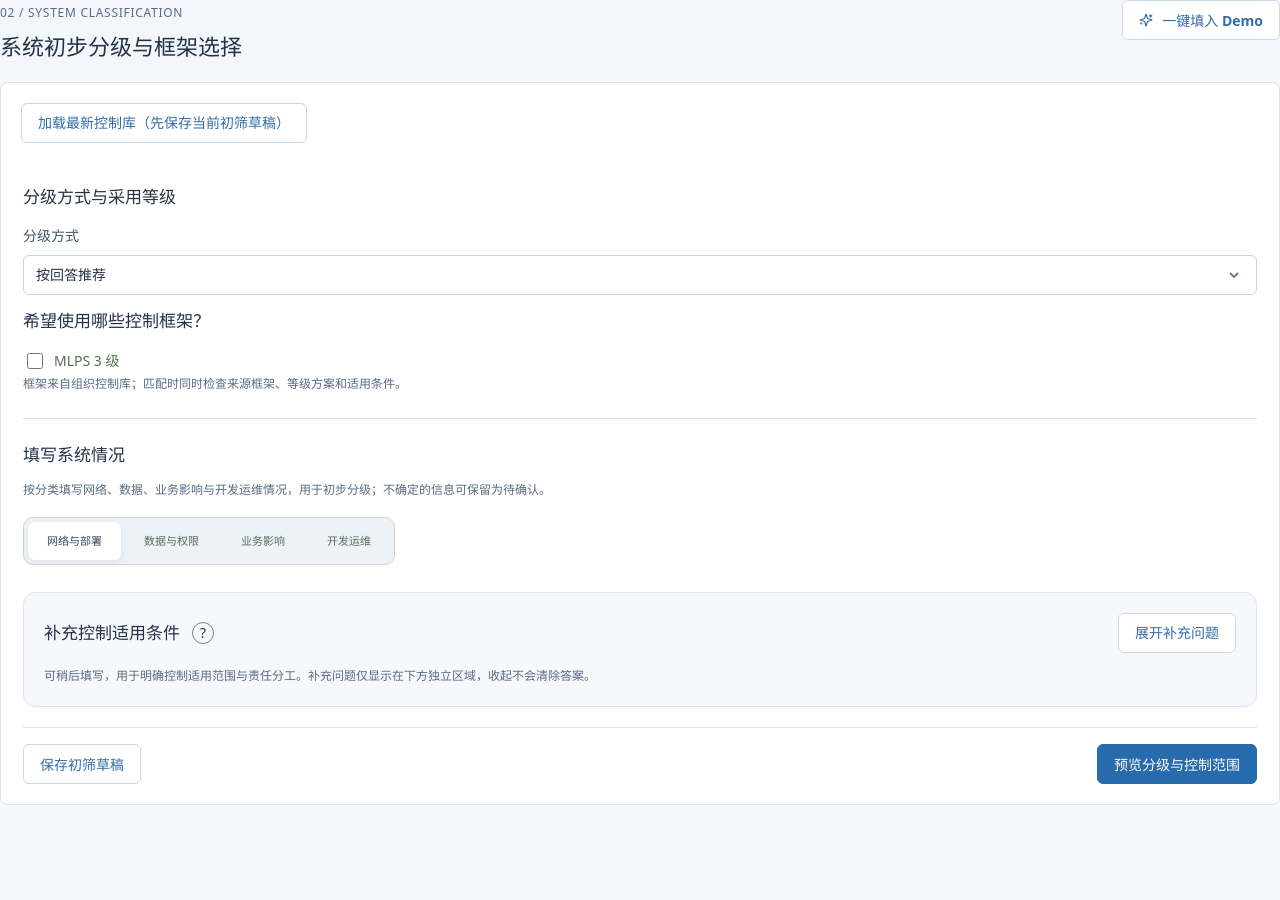
shows the relevant rule on hover or focus and dismisses it without changing answers
Click the button "数据与权限". click: (172, 541)
box: [125,522,218,560]
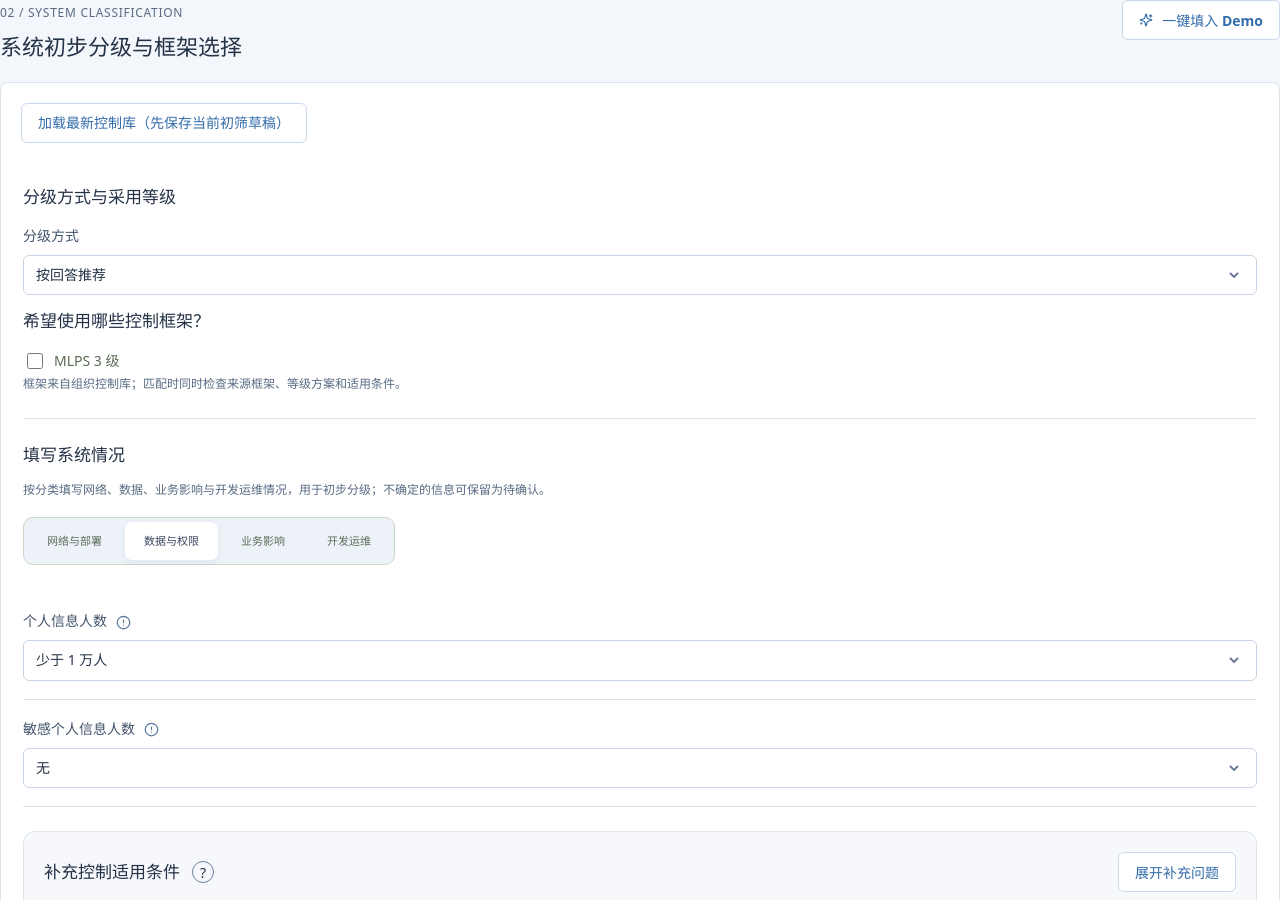
Hover over the picture named "个人信息人数 · 初筛规则说明" at (123, 622), box [116,614,131,630]
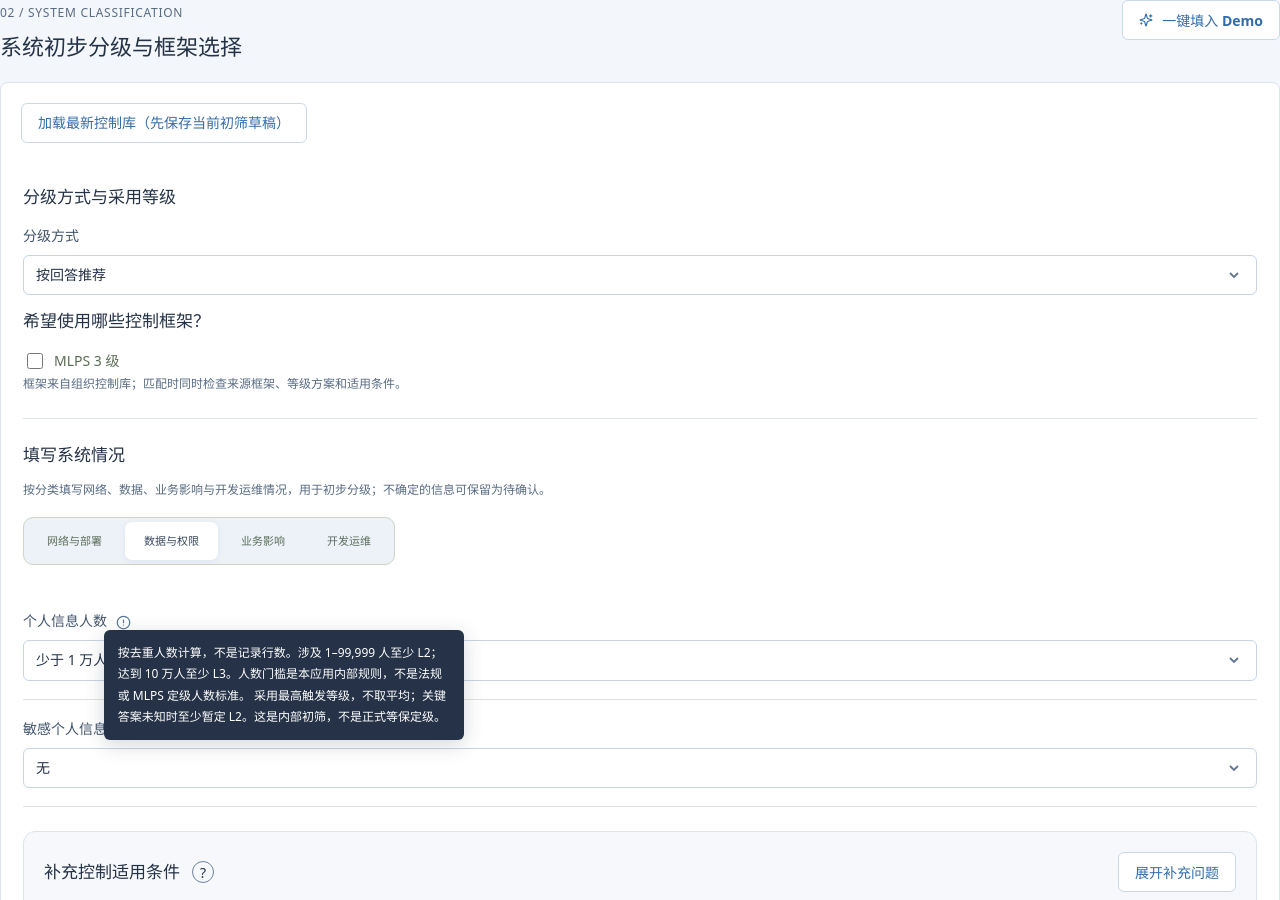
Result: the tooltip shows "达到 10 万人至少 L3" at [118,644,446,725]
Result: the tooltip shows "不是法规或 MLPS 定级人数标准" at [118,644,446,725]
Move the pointer off the picture named "个人信息人数 · 初筛规则说明", box [116,614,131,630]
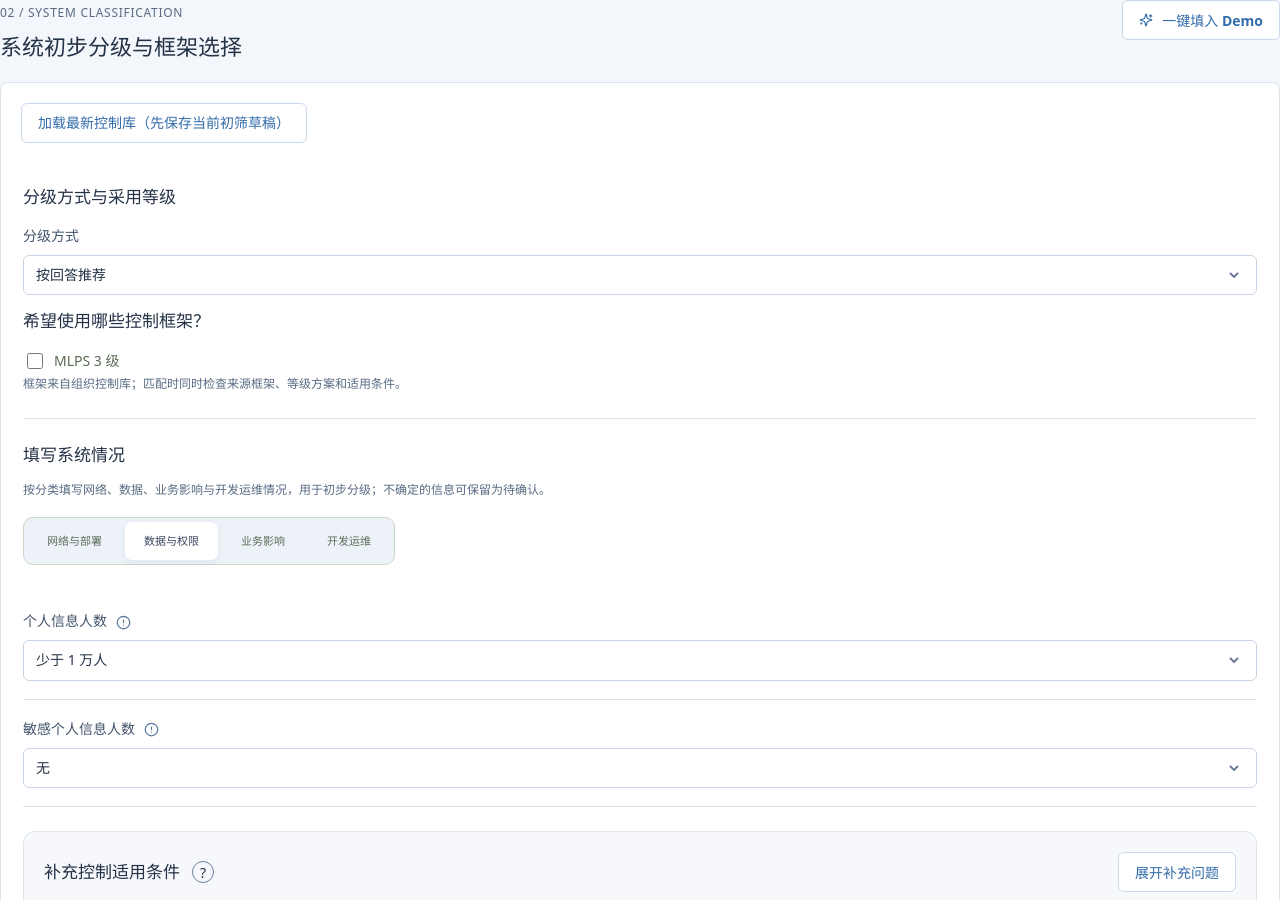
Result: the tooltip "按去重人数计算，不是记录行数。涉及 1–99,999 人至少 L2；达到 10 万人至少 L3。人数门槛是本应用内部规则，不是法规或 MLPS 定级人数标准。" is gone
Focus the picture named "敏感个人信息人数 · 初筛规则说明". click: (151, 730)
box: [144,722,159,737]
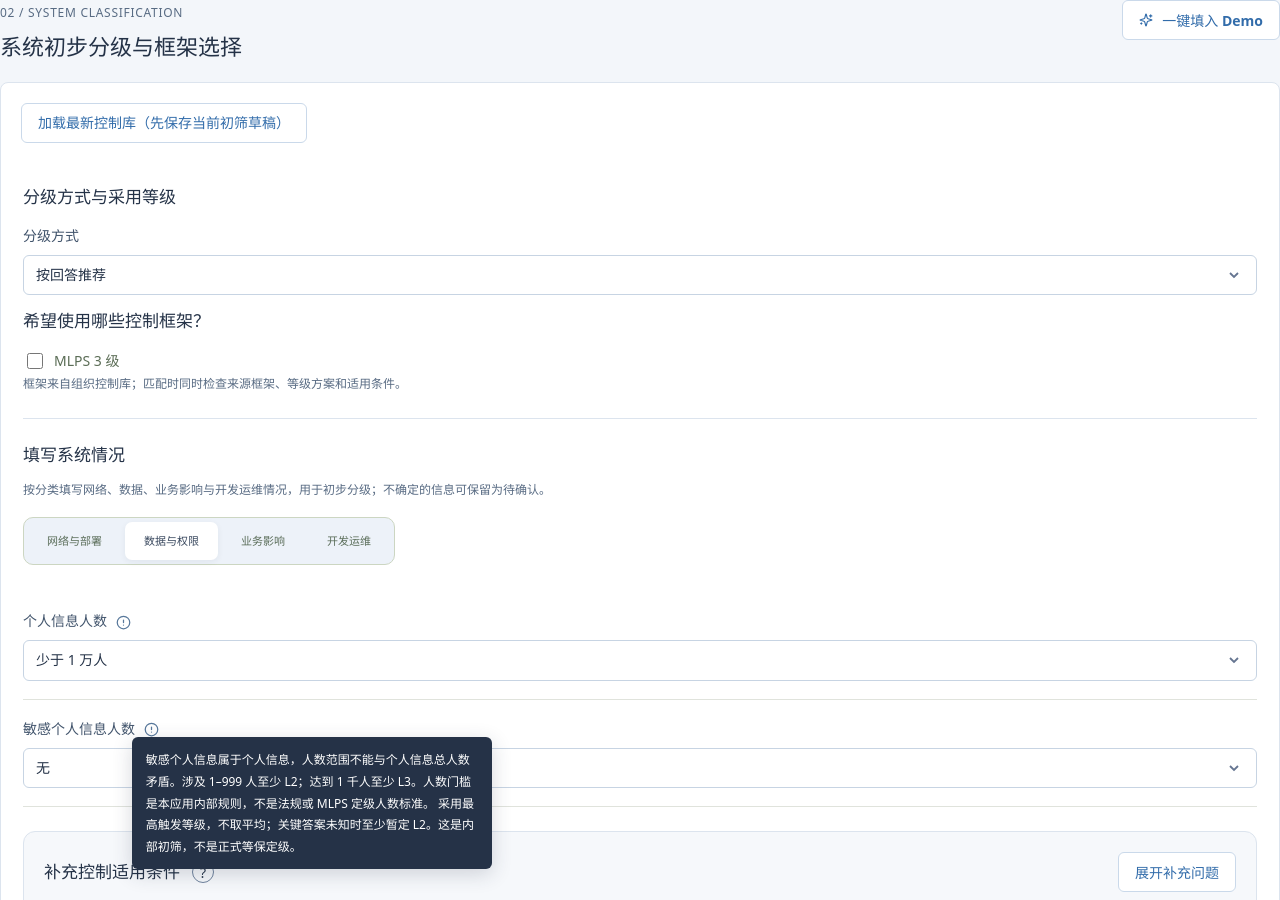
Result: the tooltip shows "达到 1 千人至少 L3" at [146,751,474,855]
Press Escape in the picture named "敏感个人信息人数 · 初筛规则说明", box [144,722,159,737]
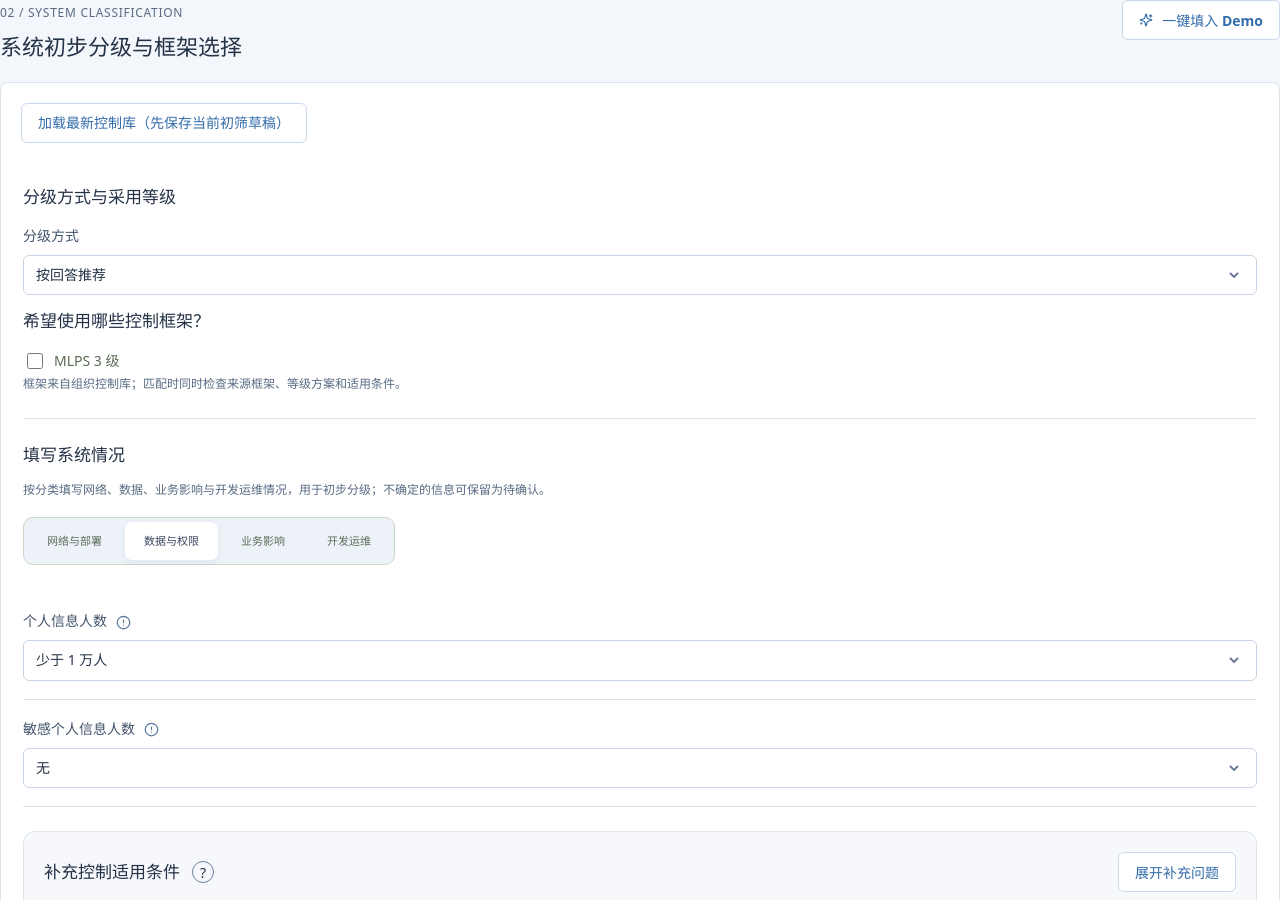
Result: the dropdown labelled "个人信息人数" shows "少于 1 万人" at [23,640,1257,681]
Result: the dropdown labelled "敏感个人信息人数" shows "无" at [23,748,1257,788]
Result: the tooltip is gone
